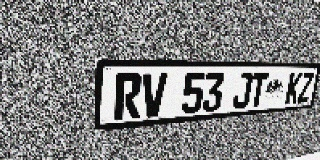3: (202, 73, 225, 112)
5: (181, 73, 205, 114)
J: (232, 73, 253, 109)
K: (284, 72, 303, 104)
R: (114, 73, 142, 121)
T: (248, 72, 268, 108)
V: (141, 73, 167, 118)
Z: (297, 72, 314, 103)
